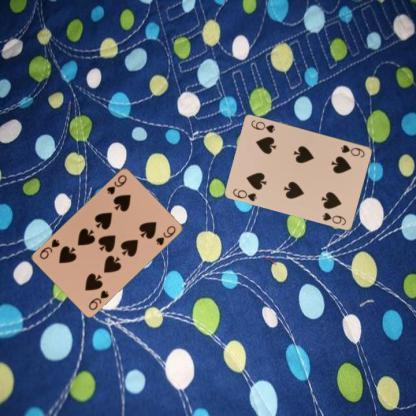6s: (230, 186, 258, 202), (339, 142, 366, 158)
9s: (104, 171, 128, 196), (86, 287, 110, 312)
